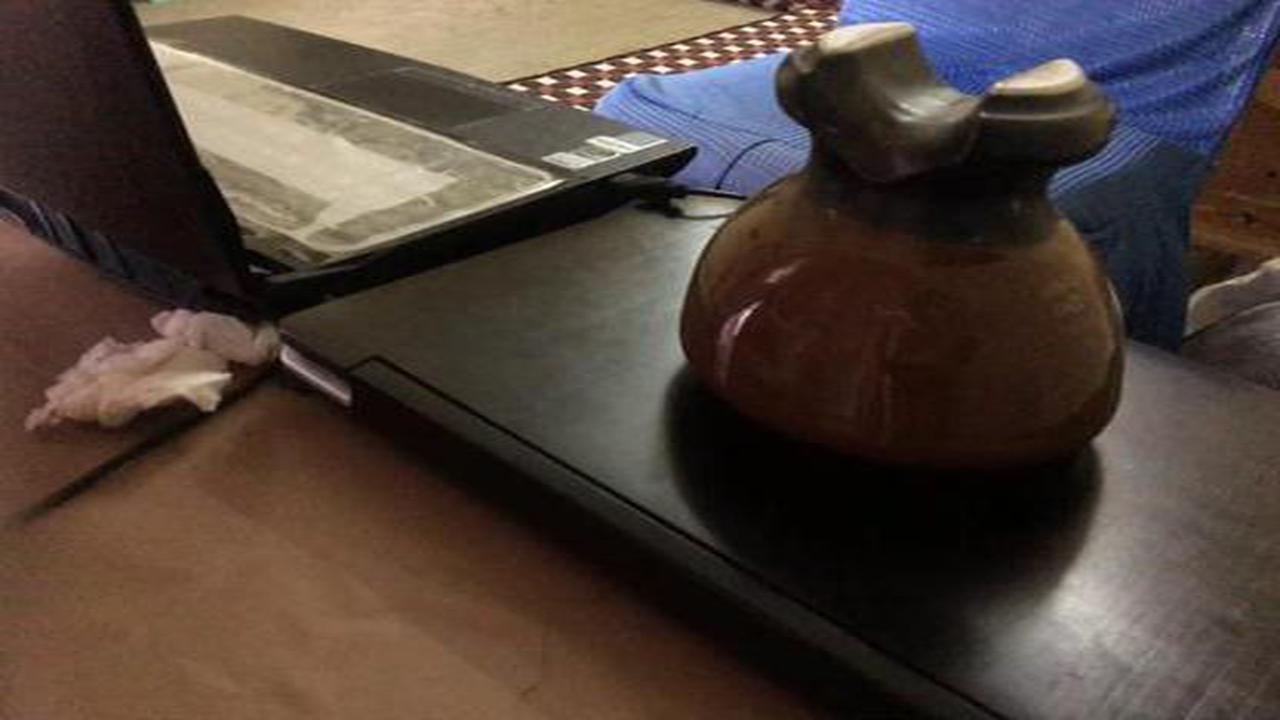insulator_pin: (650, 6, 1136, 482)
